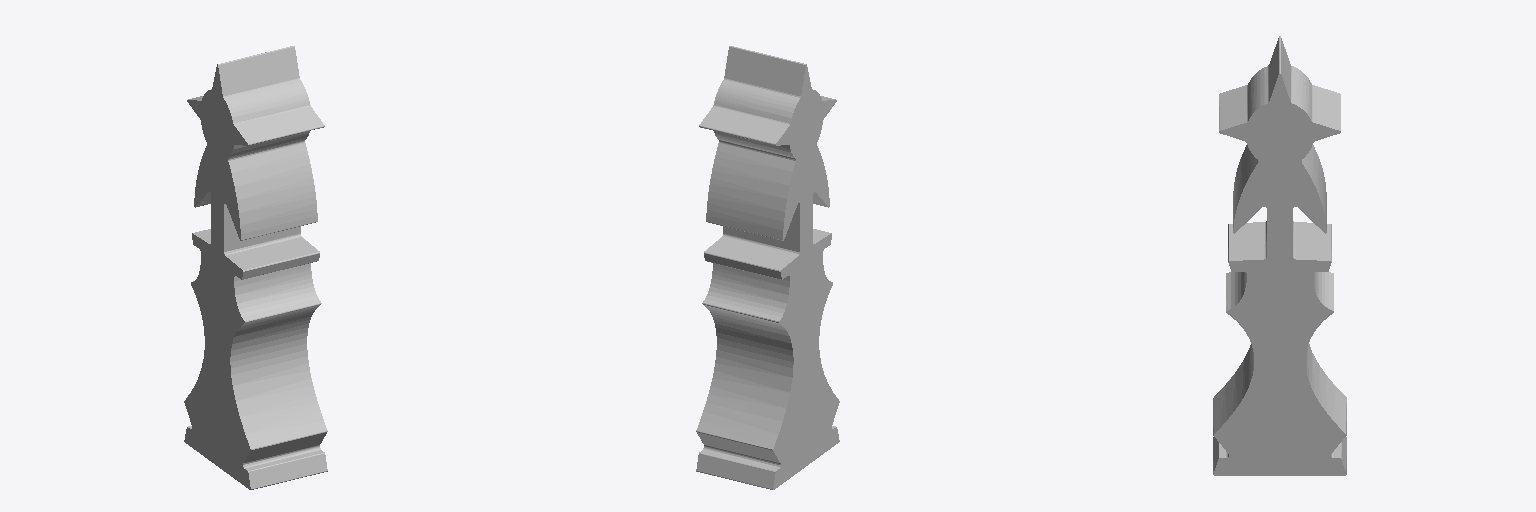
File: initiative.obj
The picture shows the model from 3 angles: view 1: azimuth 30°, elevation 25°; view 2: azimuth 150°, elevation 25°; view 3: azimuth 270°, elevation 25°; orthographic projection.
Visible parts, largest first — view 1: Path-copy; view 2: Path-copy; view 3: Path-copy.
Part boxes in pixels (bbox=[...]): Path-copy: bbox=[184, 46, 327, 489]; Path-copy: bbox=[696, 46, 839, 489]; Path-copy: bbox=[1213, 36, 1346, 475].
Bounding box in the file's own units: 1.2 × 6 × 1.8.